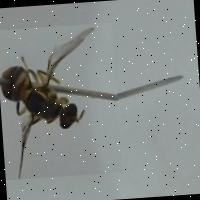Oriental-fruit-fly: (0, 21, 122, 179)
